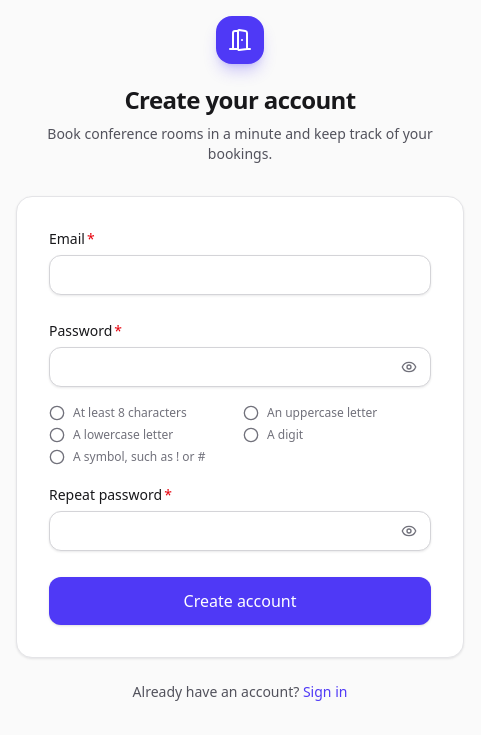
Test: RegisterComponent › refuses passwords that don't match
The image size is (481, 735).
Type "new@example.test" into the field labelled "Email" at {"x": 240, "y": 275}, box [49,255,431,295]
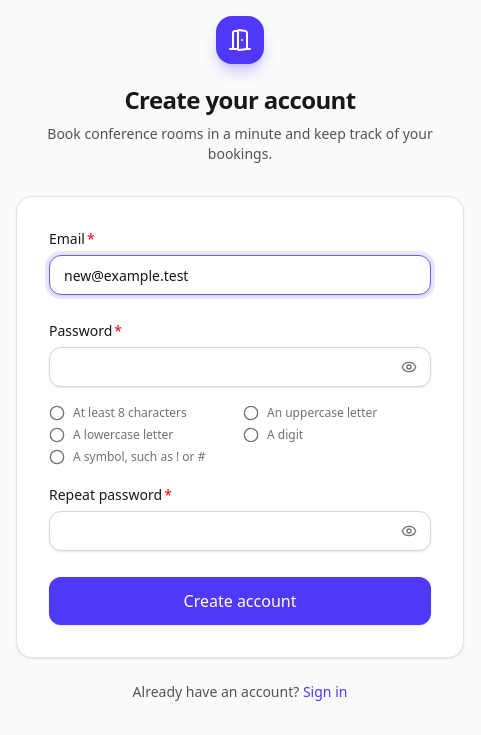
Type "Strong-Pass1!" into the password field labelled "Password" at {"x": 240, "y": 367}, box [49,347,431,387]
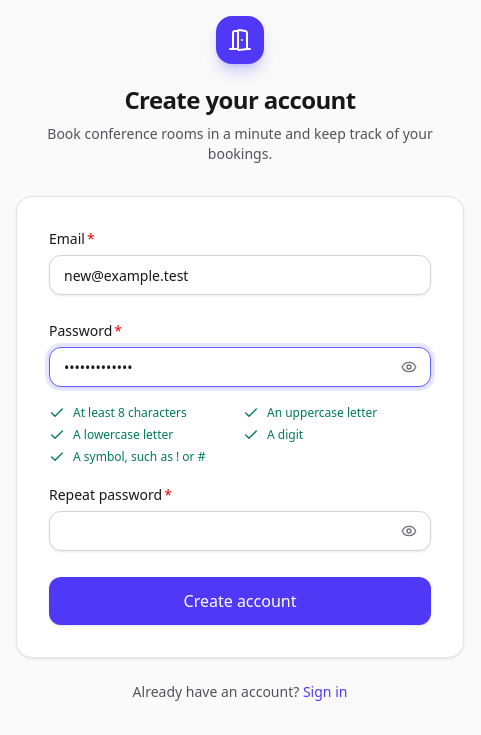
Type "Strong-Pass2!" into the password field labelled "Repeat password" at {"x": 240, "y": 531}, box [49,511,431,551]
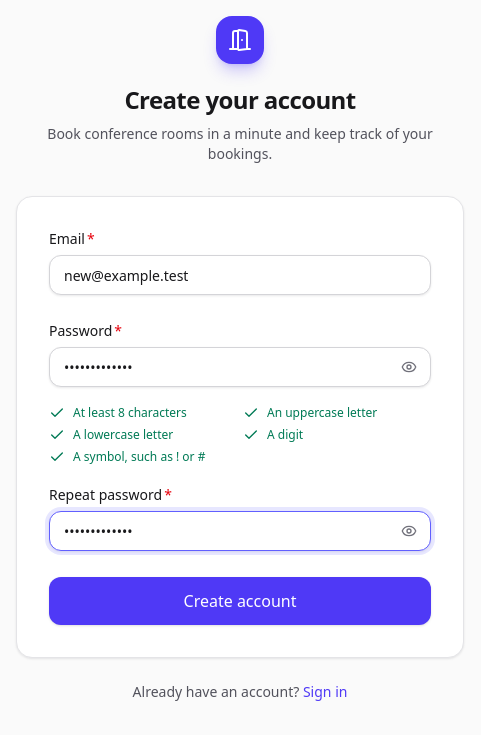
Click the button "Create account" at {"x": 240, "y": 601}, box [49,577,431,625]
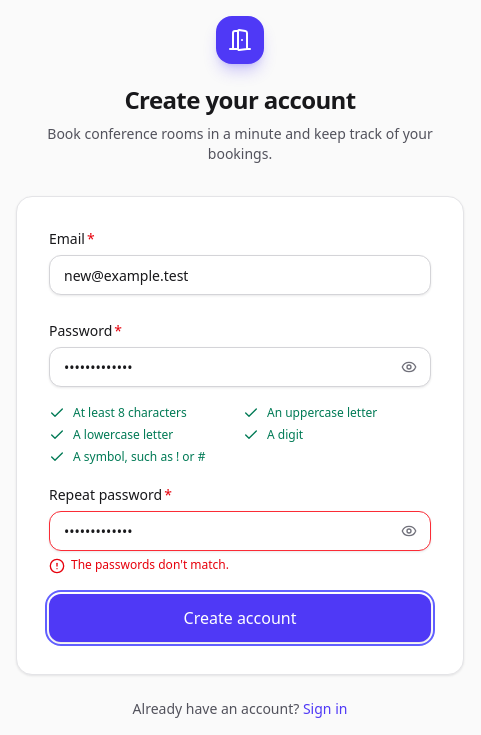
Now the text "The passwords don't match." is shown, box [49,556,229,574]
